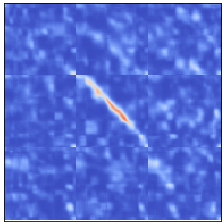action_path: (74, 75, 148, 149)
